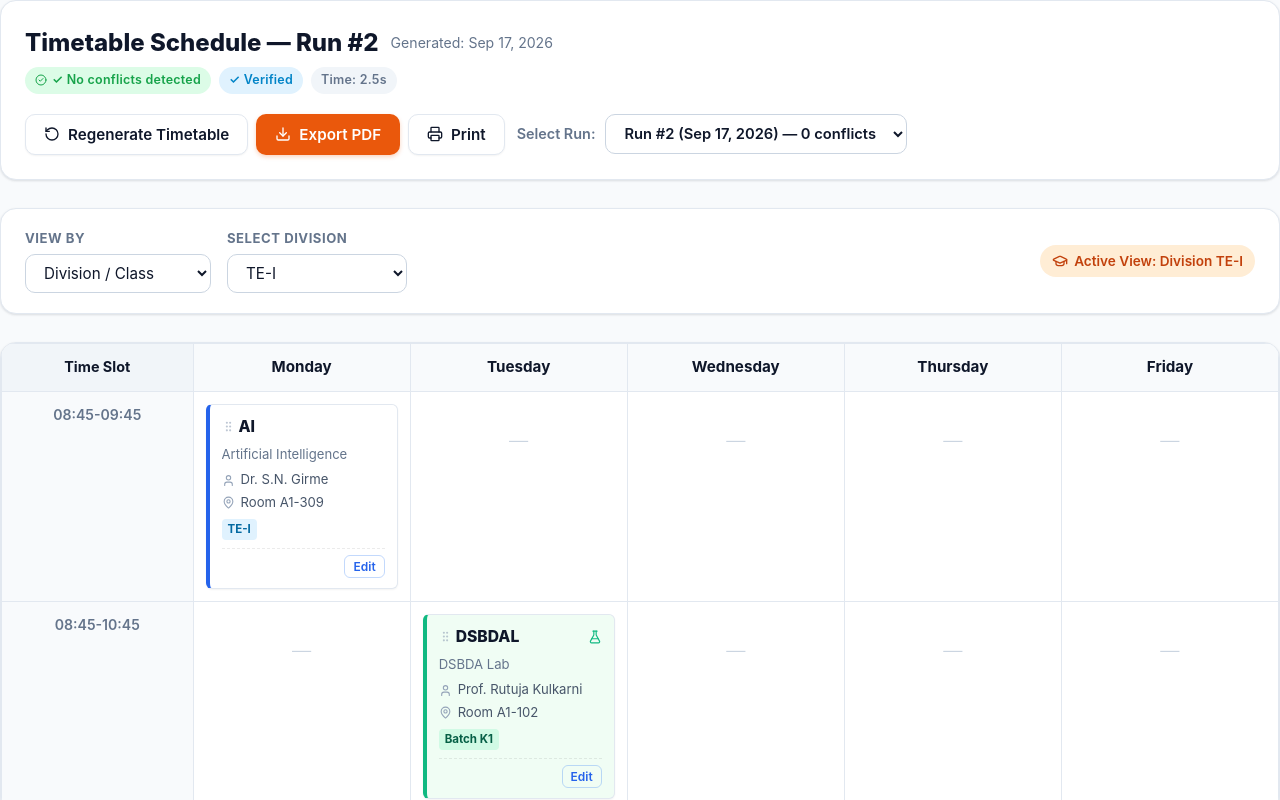
Scenario: Redesigned Timetable Viewer Component › 16. Displays conflicts when validation detects clash
Click the button with aria-label "edit AI entry" at {"x": 365, "y": 567}, box x1=344 y1=555 x2=385 y2=578
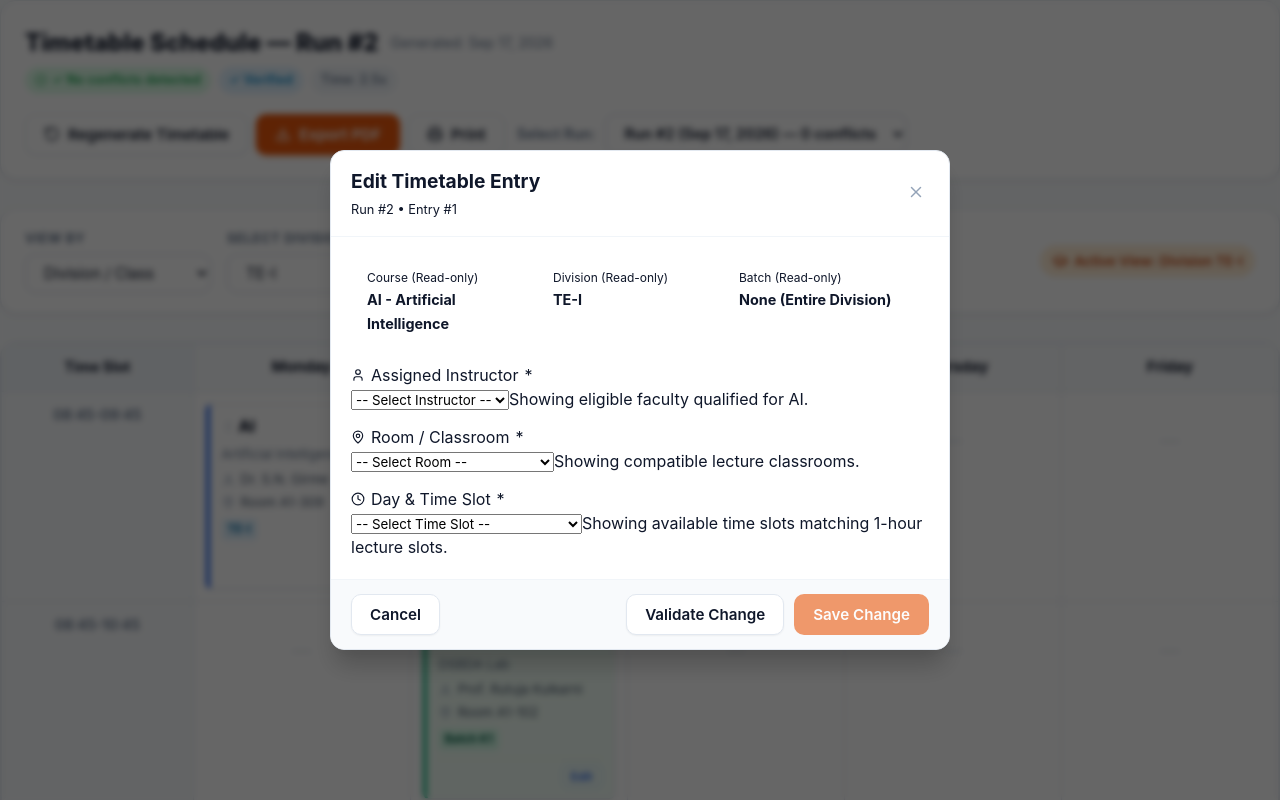
Expected: the button "Validate Change" is shown
Click the button "Validate Change" at {"x": 705, "y": 614}, box x1=626 y1=594 x2=784 y2=635
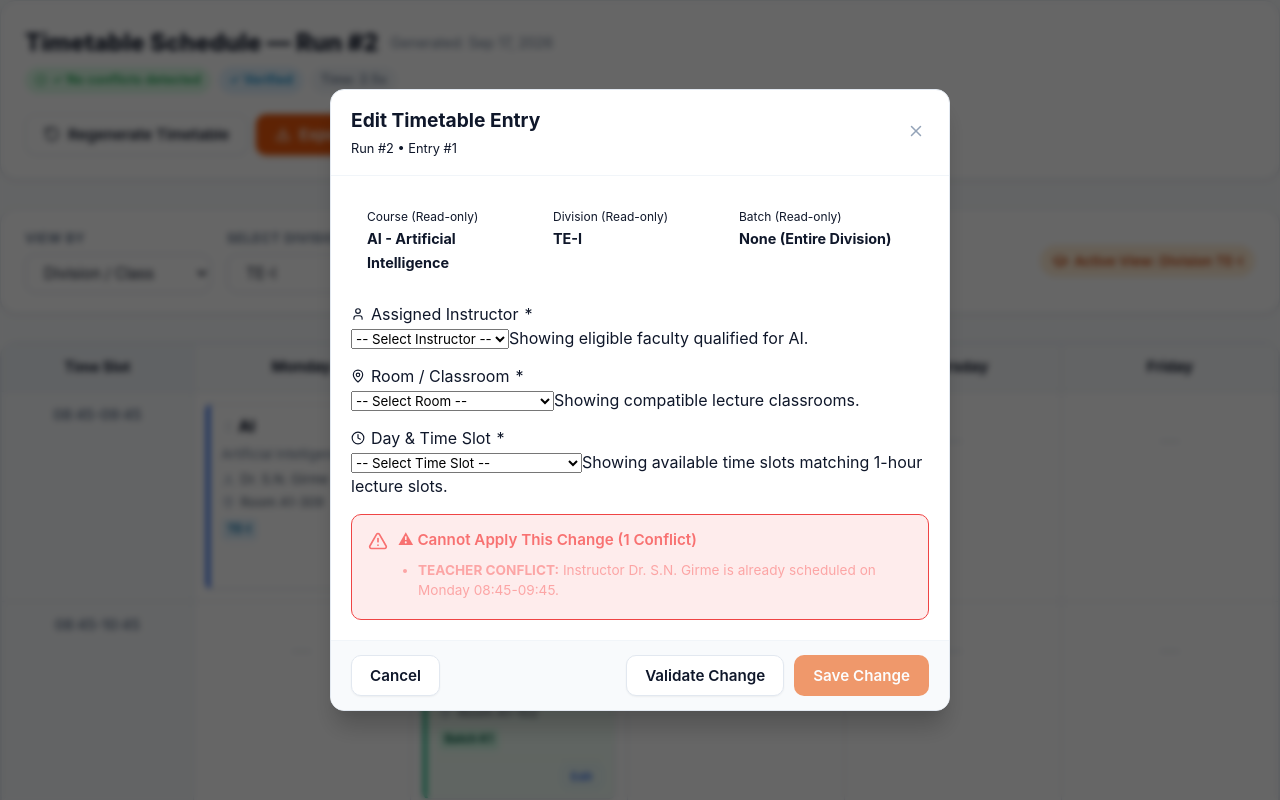
Expected: the heading "⚠ Cannot Apply This Change (1 Conflict)" is shown, x1=398 y1=530 x2=697 y2=549
Expected: the list item "is already scheduled on Monday" is shown, x1=418 y1=562 x2=876 y2=598
